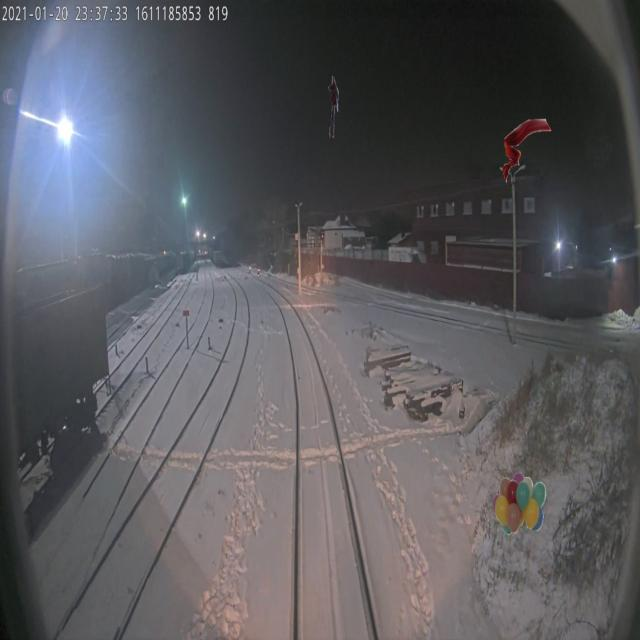balloon: (492, 471, 546, 535)
floating object: (502, 119, 552, 182), (328, 74, 338, 138)
